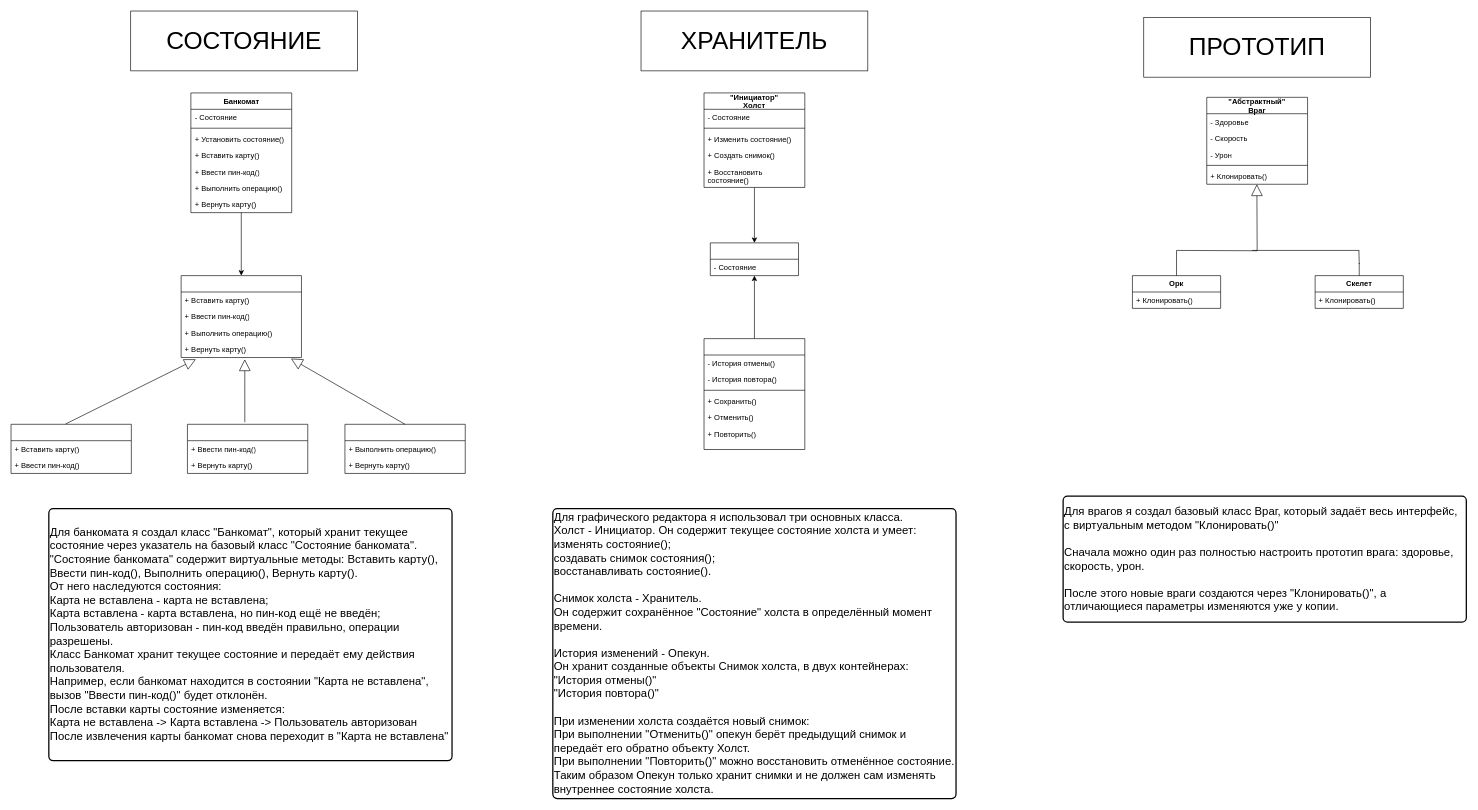
The diagram is 1478 pixels wide and 810 high, and some of its shapes have lost their labels. Each missing label, with the box of its shape:
"Абстрактный" Состояние банкомата: (180, 275, 301, 358)
"Опекун" История изменений: (703, 338, 805, 450)
"Хранитель" Снимок Холста: (710, 242, 799, 276)
Карта вставлена: (187, 424, 308, 473)
Карта не вставлена: (10, 424, 131, 473)
Пользователь авторизован: (344, 424, 465, 473)
